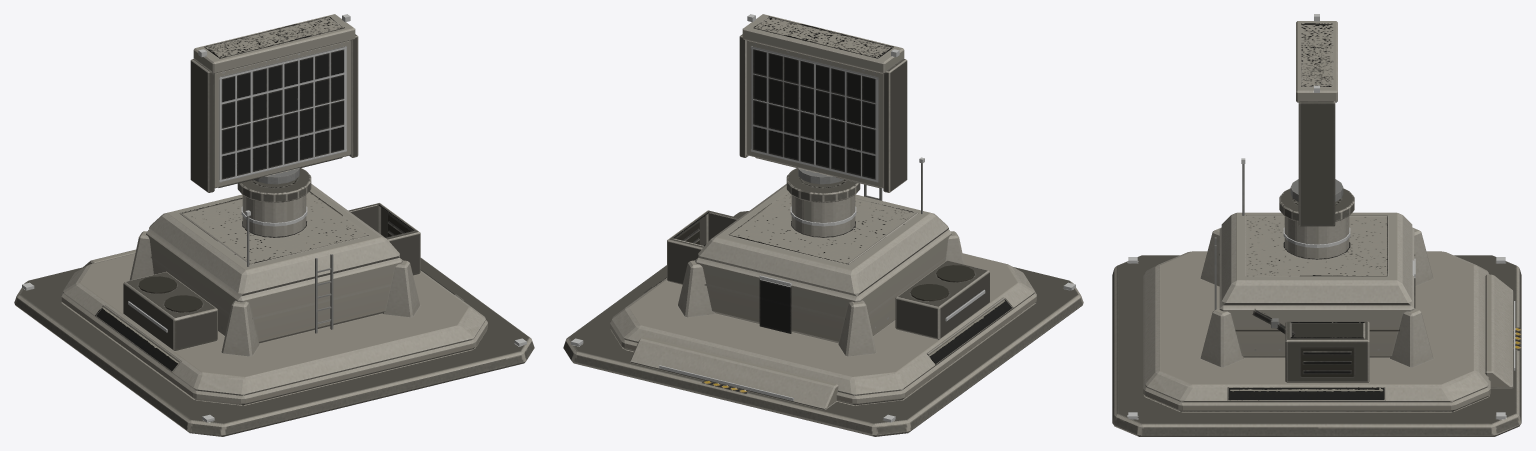
Rendered from ord_tribunal.fbx.
3 renders of one model, left to right at view 1: azimuth 30°, elevation 25°; view 2: azimuth 150°, elevation 25°; view 3: azimuth 270°, elevation 25°, orthographic. The views are drawn at different scales.
Parts seen in each view (by area): view 1: base_bar, radar_bar, radar_glow_running_bar, base_glow_running_bar; view 2: base_bar, radar_bar, radar_glow_running_bar, base_glow_running_bar; view 3: base_bar, radar_bar, base_glow_running_bar.
Boxes of the visible parts, box(x1,y1,x2,y2) form: base_bar: box(14, 168, 534, 436); radar_bar: box(190, 14, 358, 192); radar_glow_running_bar: box(198, 14, 350, 182); base_glow_running_bar: box(22, 206, 526, 422); base_bar: box(563, 163, 1083, 436); radar_bar: box(739, 14, 907, 192); radar_glow_running_bar: box(747, 14, 899, 182); base_glow_running_bar: box(571, 157, 1075, 422); base_bar: box(1112, 164, 1521, 436); radar_bar: box(1290, 21, 1343, 226); base_glow_running_bar: box(1128, 158, 1515, 419).
Size of the model in its own units: 1555 by 1460 by 1555.
2 materials, 2 textured.
